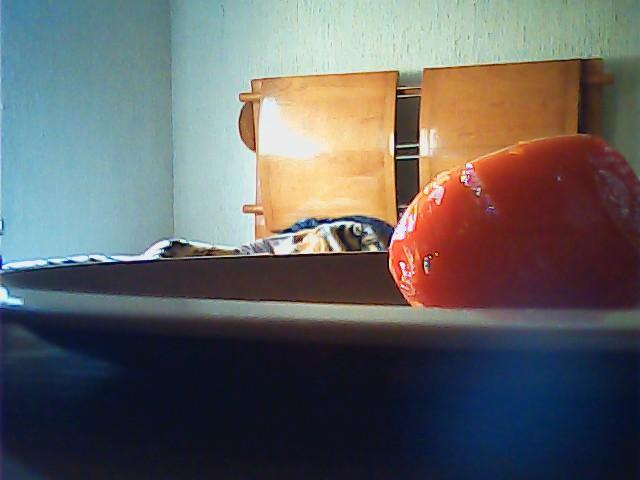maduro: (384, 134, 639, 304)
